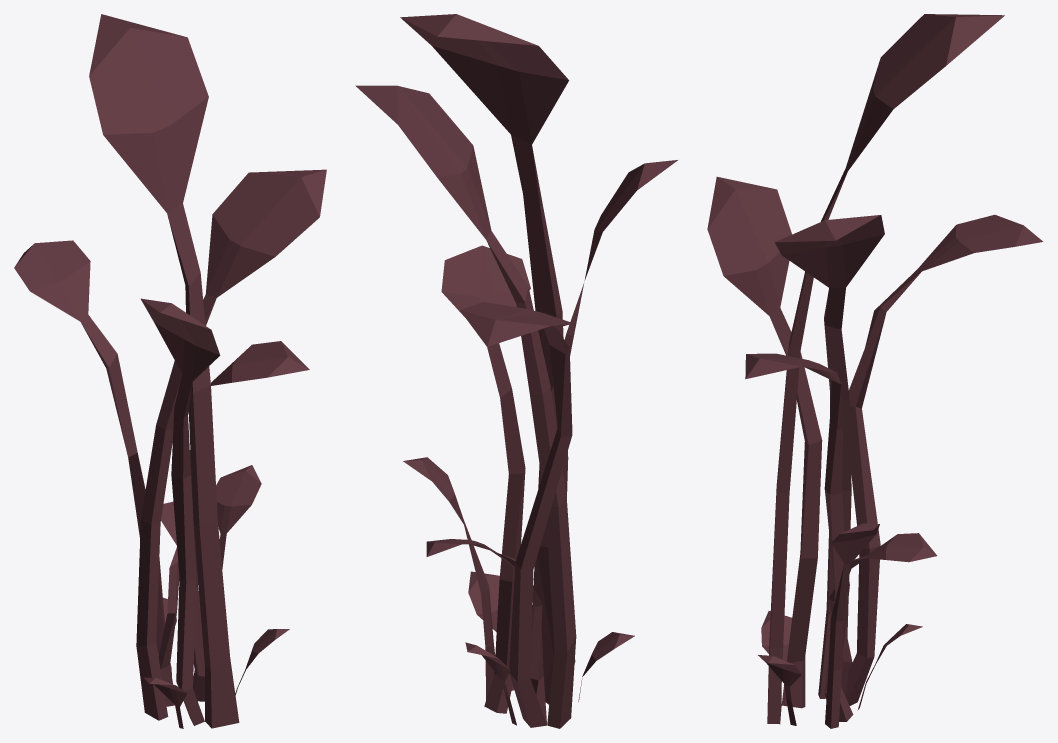
The model's file is plant-strelitzia.fbx.
The picture shows the model from 3 angles, left to right: view 1: azimuth 30°, elevation 25°; view 2: azimuth 150°, elevation 25°; view 3: azimuth 270°, elevation 25°; orthographic projection. The views are drawn at different scales.
Parts seen in each view (by area): view 1: plant-strelitzia; view 2: plant-strelitzia; view 3: plant-strelitzia.
Boxes of the visible parts, x1,y1,x2,y2 form: plant-strelitzia: (14,14,326,728); plant-strelitzia: (355,14,677,728); plant-strelitzia: (707,14,1043,728).
Bounding box in the file's own units: 0.5179 × 1.31 × 0.5718.
